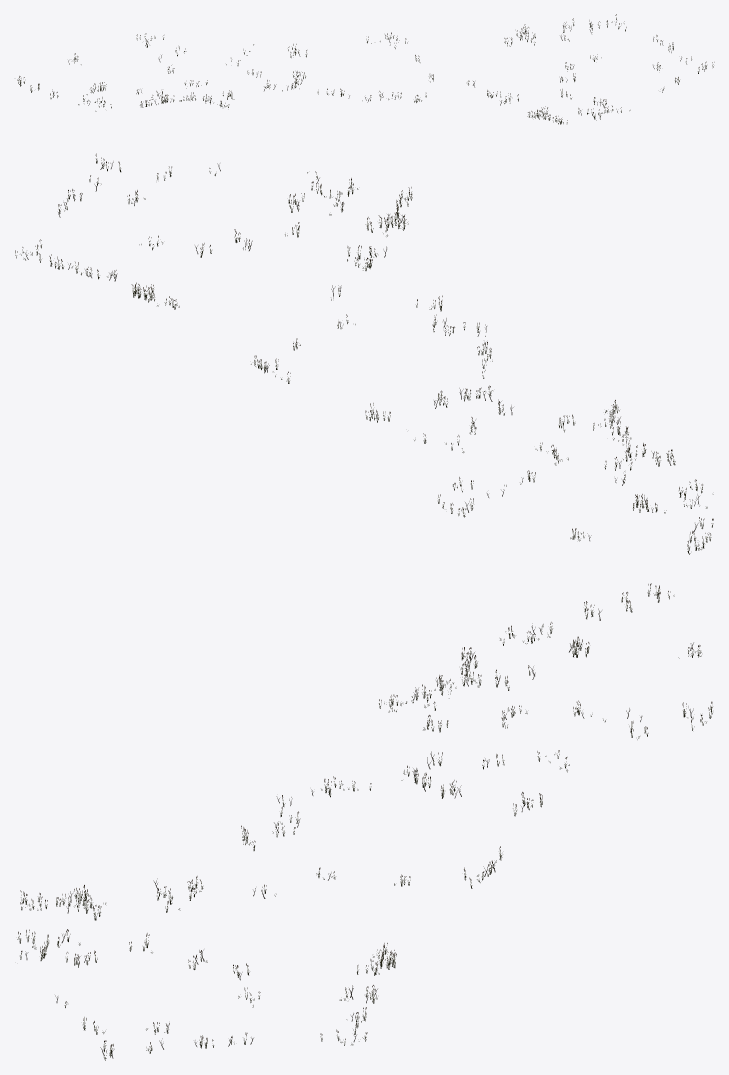
Rendered from PantanoVegetacion.glb.
The picture shows the model from 3 angles, top to bottom: view 1: azimuth 30°, elevation 25°; view 2: azimuth 150°, elevation 25°; view 3: azimuth 270°, elevation 25°; orthographic projection. The views are drawn at different scales.
Size of the model in its own units: 209 by 5.76 by 133.
